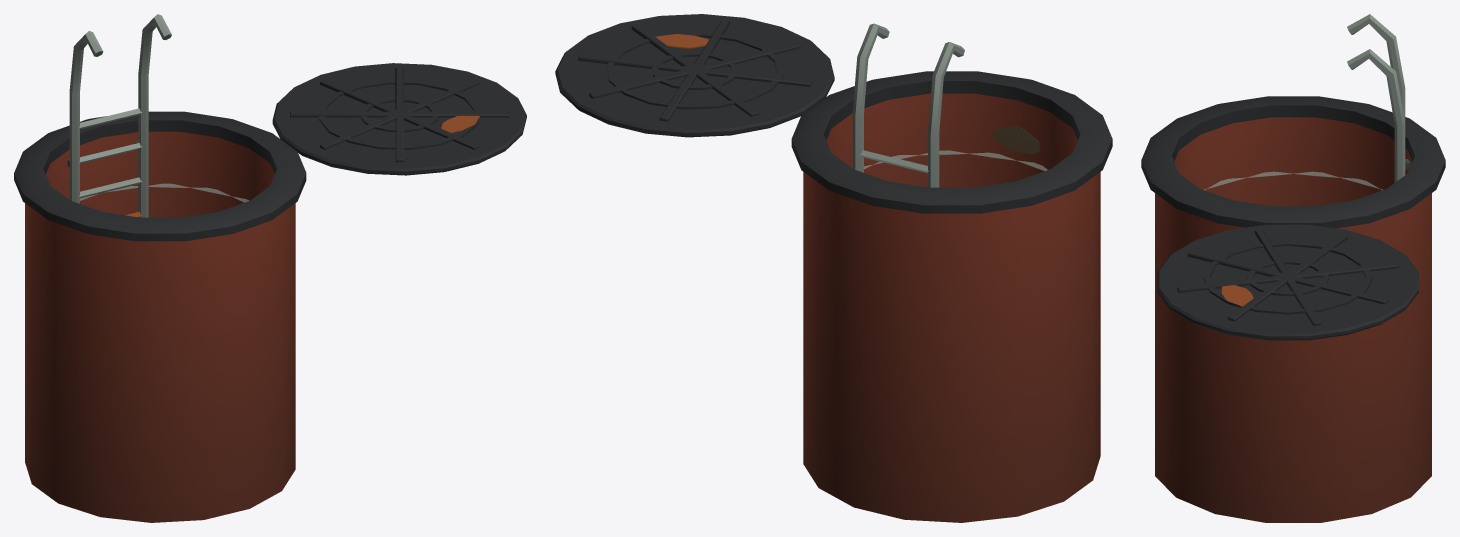
Rendered from 120_egout_ouvert.fbx.
The picture shows the model from 3 angles, left to right: view 1: azimuth 30°, elevation 25°; view 2: azimuth 150°, elevation 25°; view 3: azimuth 270°, elevation 25°; orthographic projection. The views are drawn at different scales.
Parts seen in each view (by area): view 1: Cadre, Plaque, Echelle; view 2: Cadre, Plaque, Echelle; view 3: Cadre, Plaque, Echelle.
Part boxes in pixels (box(x1,y1,x2,y2)): Cadre: box(14, 111, 306, 522); Plaque: box(272, 63, 526, 175); Echelle: box(67, 14, 171, 217); Cadre: box(791, 71, 1112, 522); Plaque: box(555, 14, 834, 137); Echelle: box(852, 23, 964, 187); Cadre: box(1141, 96, 1445, 522); Plaque: box(1157, 224, 1418, 340); Echelle: box(1347, 14, 1410, 182).
Size of the model in its own units: 1.46 by 1.23 by 0.784.
Materials: 1 (1 with a texture image).
